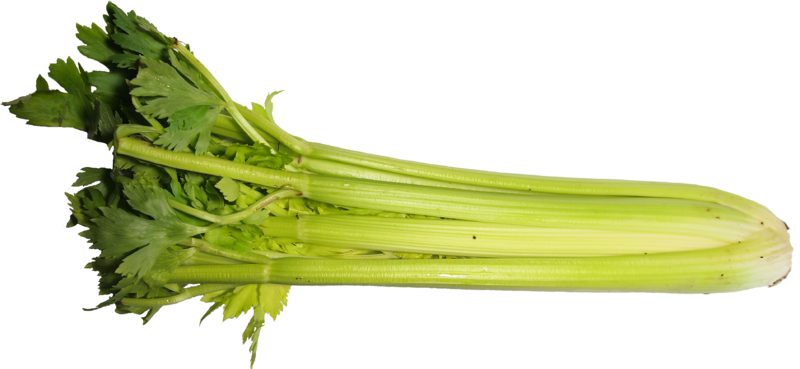Seledri: (30, 26, 800, 350)
